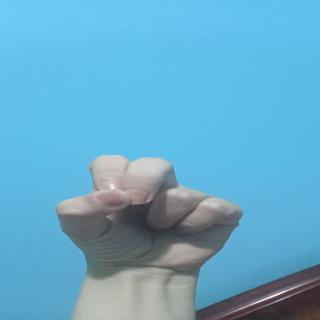QAAF: (54, 150, 265, 256)
